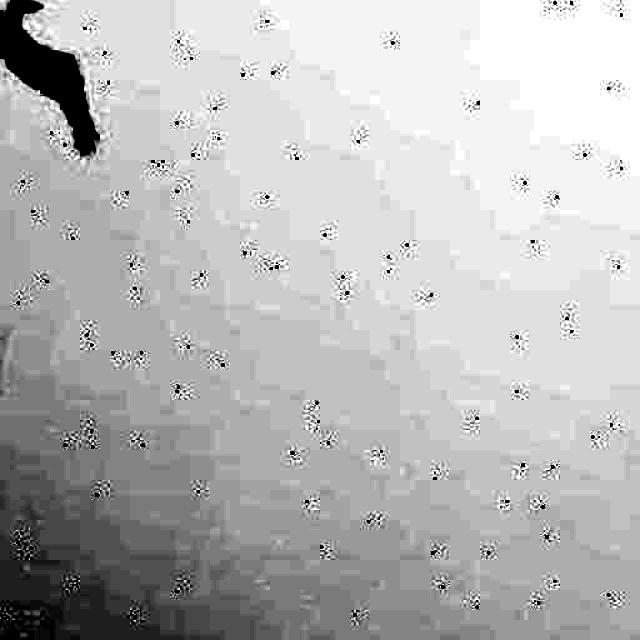airplane: (0, 0, 124, 160)
